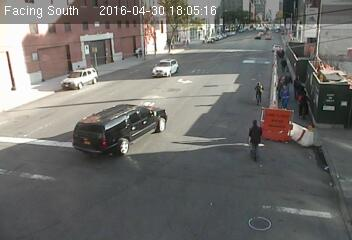neg: (129, 100, 149, 127), (214, 41, 229, 61), (89, 88, 103, 108), (176, 83, 190, 102), (12, 103, 23, 118), (64, 99, 74, 112), (160, 59, 168, 71)
pos: (237, 117, 269, 159), (246, 78, 270, 109), (294, 92, 314, 120), (276, 85, 293, 107), (274, 73, 287, 92), (277, 54, 290, 71), (279, 66, 292, 83), (131, 42, 143, 58), (275, 46, 285, 61)
